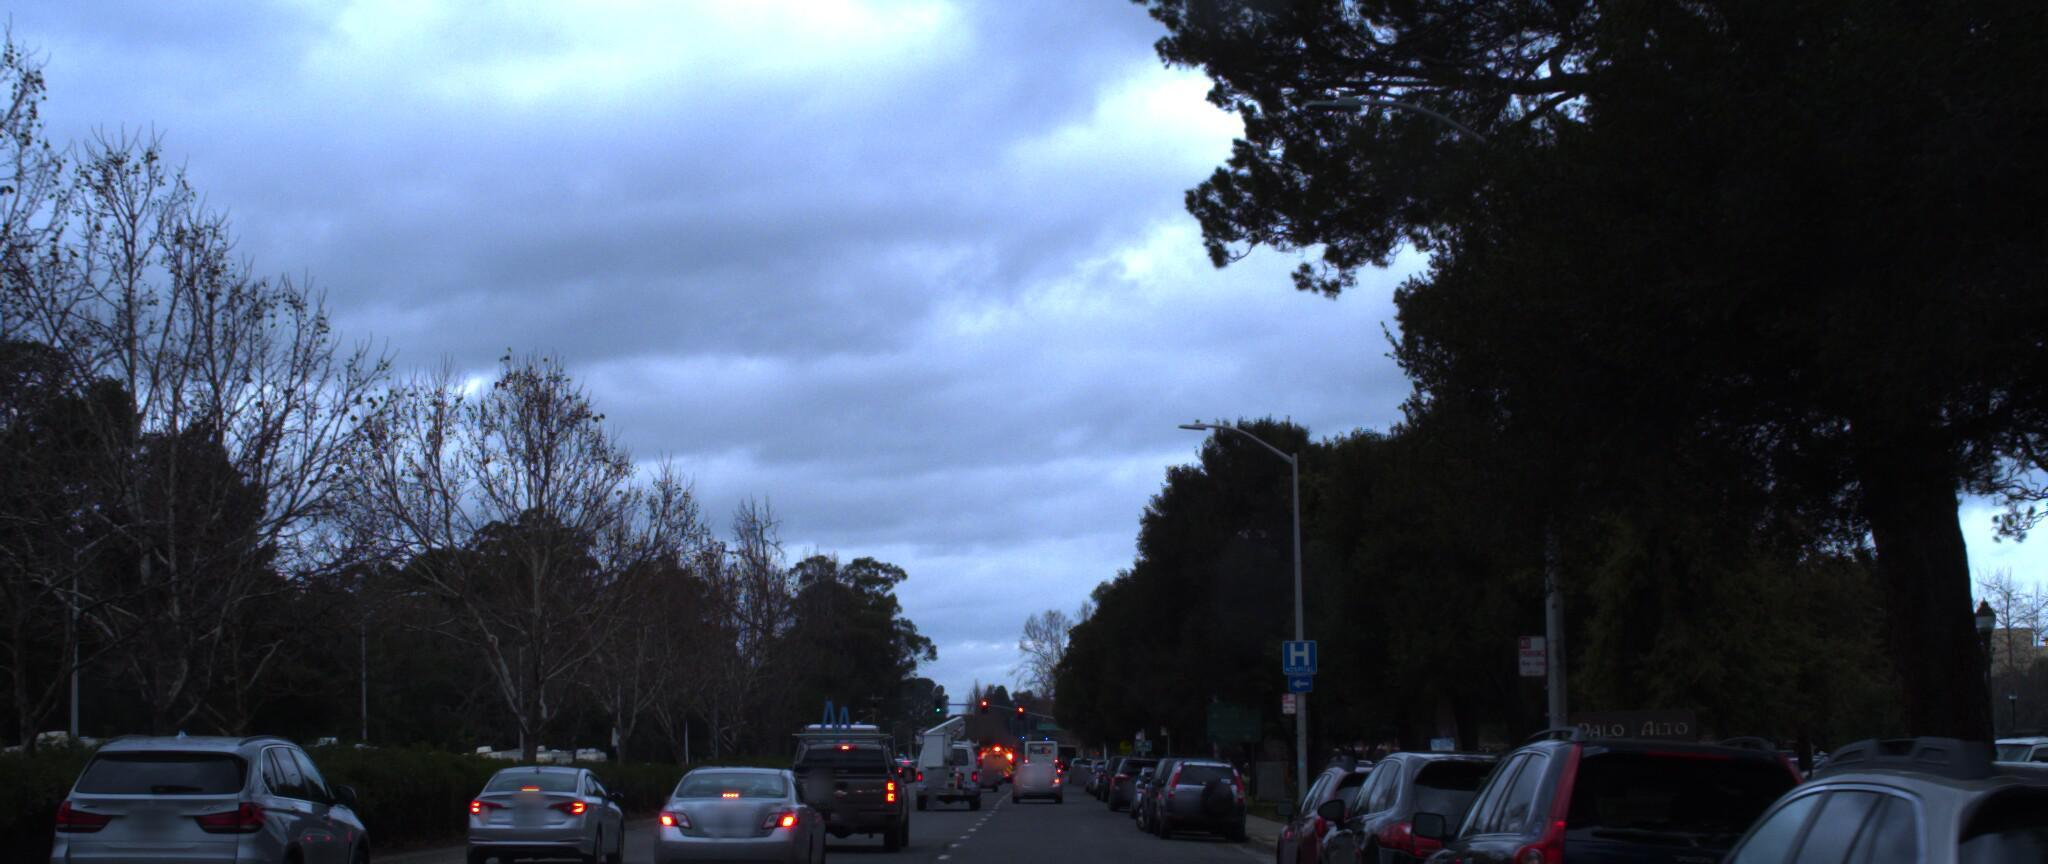car: (1378, 696, 1902, 864), (1583, 705, 2048, 864), (27, 720, 383, 864), (1292, 731, 1648, 864), (1256, 739, 1507, 864), (633, 747, 836, 864), (470, 758, 637, 864), (778, 714, 916, 841), (1143, 737, 1241, 824), (2000, 807, 2048, 864)
